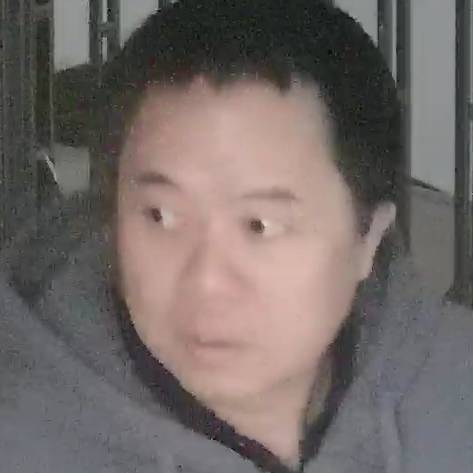caibo: (103, 66, 394, 401)
